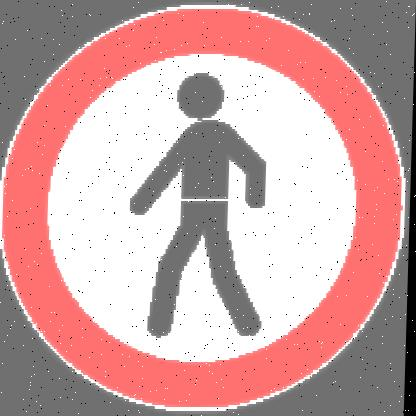Pedestrian Crossing: (17, 17, 402, 388)
